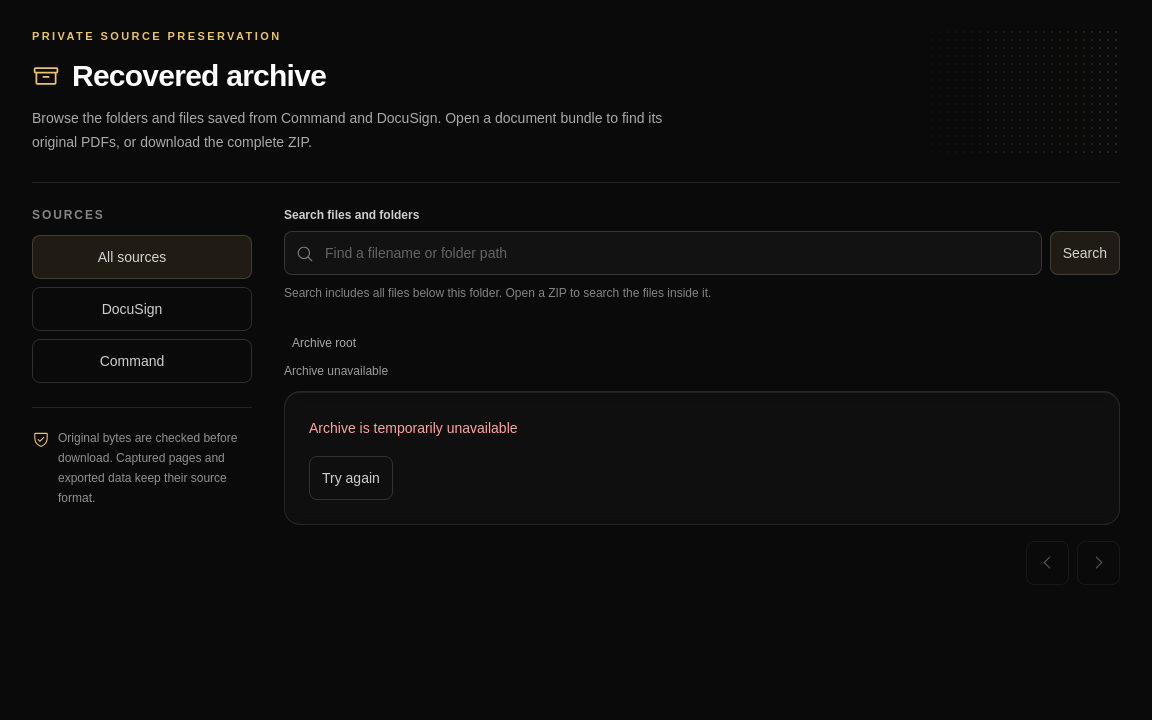
Scenario: recovered archive browser › shows a loading skeleton and a recoverable error without a false empty result
Expected: the element named "Loading archive" is shown, [309,420,518,500]
Expected: the message reads "Archive is temporarily unavailable", [309,420,518,436]
Click the button "Try again" at (351, 478), box [309,456,393,500]
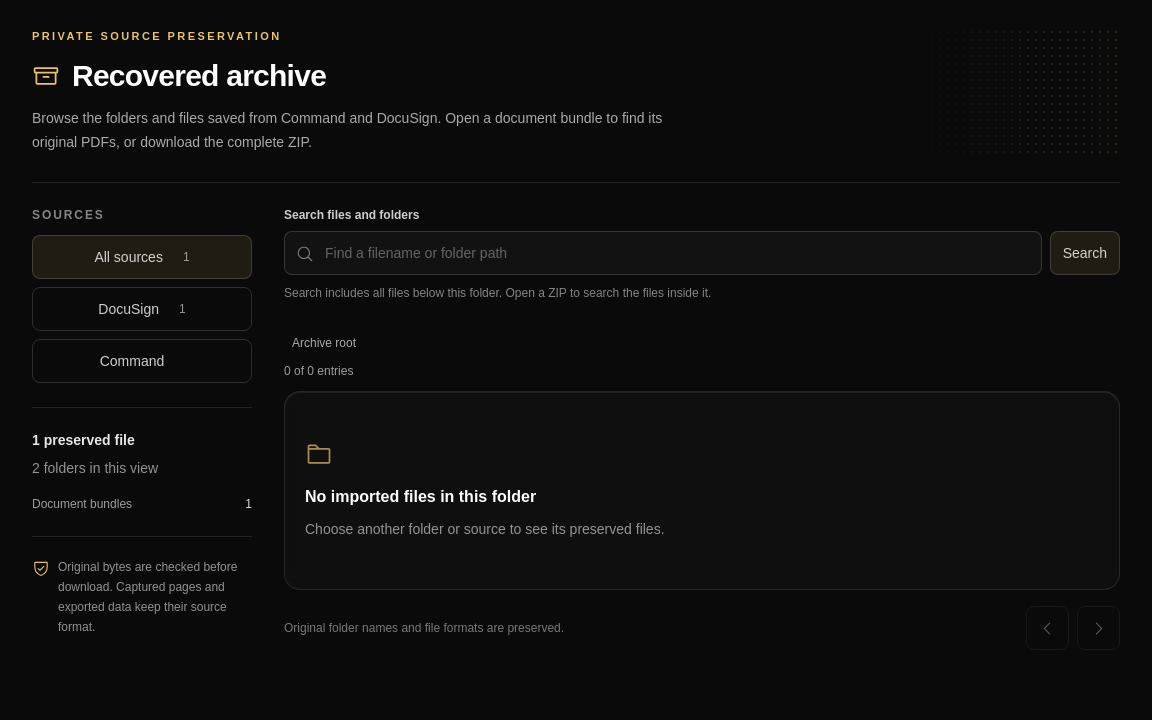
Expected: the heading "No imported files in this folder" is shown, [305,488,536,505]
